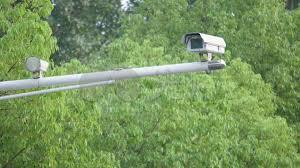tutu: (174, 30, 226, 56)
